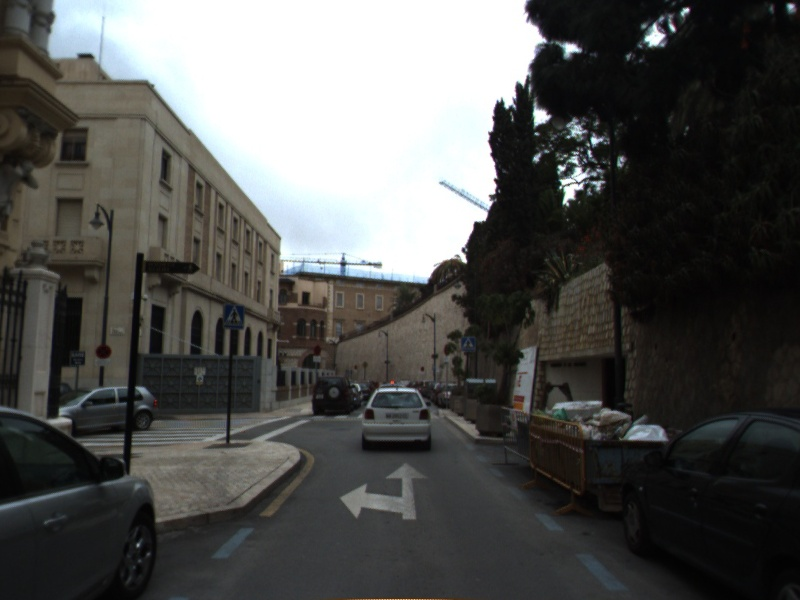STRAIGHT_LEFT: (338, 461, 430, 521)
